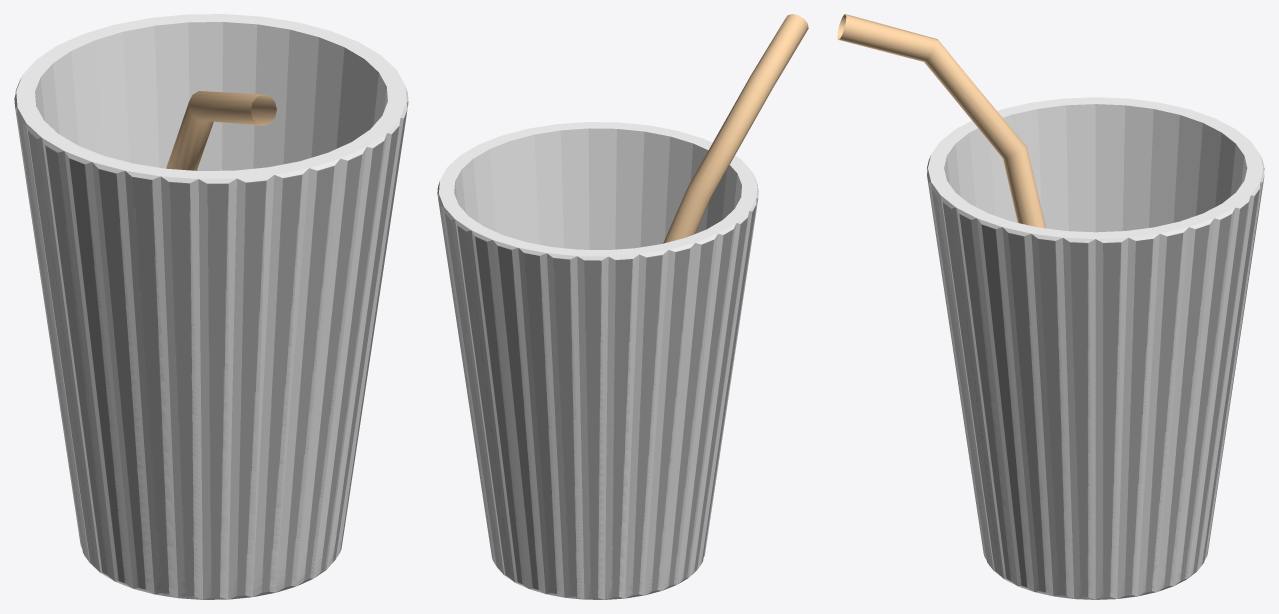
Rendered from GlassUpdateWithOutWater.fbx.
3 views of the same model, side by side, from view 1: azimuth 30°, elevation 25°; view 2: azimuth 150°, elevation 25°; view 3: azimuth 270°, elevation 25° (orthographic). The views are drawn at different scales.
Visible parts, largest first — view 1: Circle.001, NurbsPath.001; view 2: Circle.001, NurbsPath.001; view 3: Circle.001, NurbsPath.001.
Boxes of the visible parts, x1,y1,x2,y2 form: Circle.001: (14, 14, 408, 599); NurbsPath.001: (166, 91, 276, 170); Circle.001: (437, 122, 758, 599); NurbsPath.001: (663, 14, 808, 243); Circle.001: (927, 97, 1264, 599); NurbsPath.001: (837, 14, 1045, 228).
Bounding box in the file's own units: 40.06 × 50.66 × 65.14.
